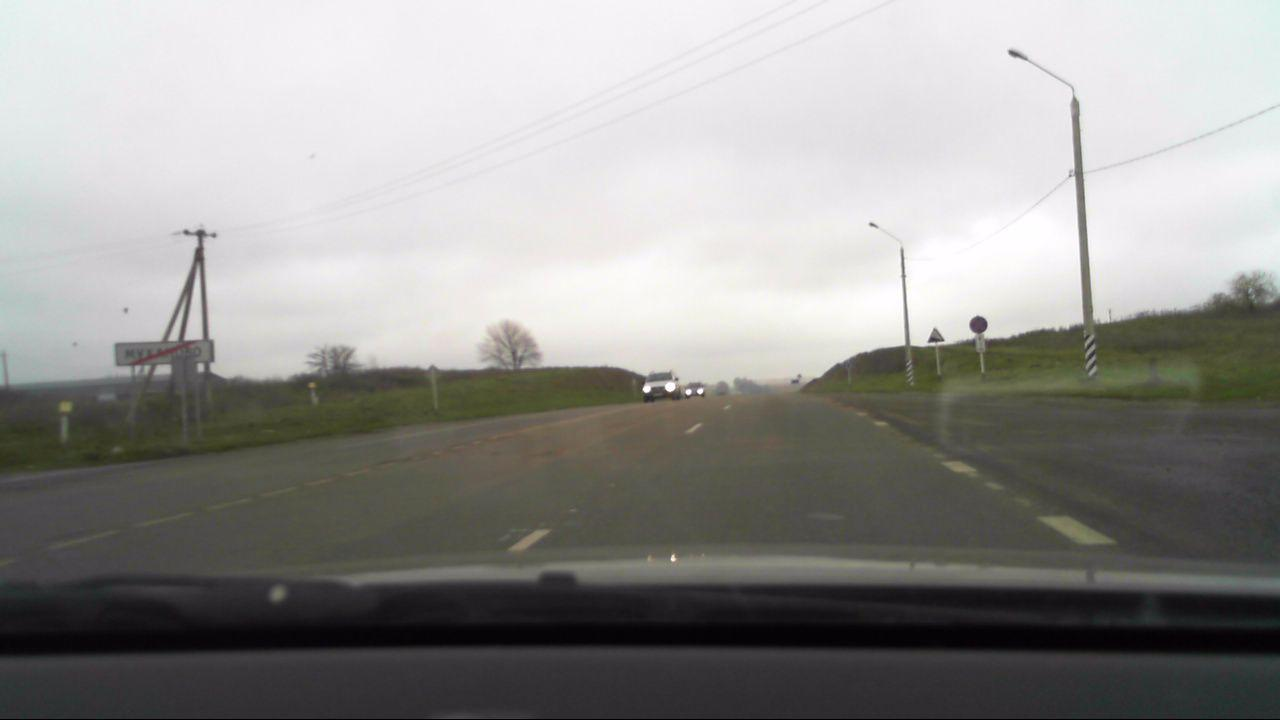1_13: (924, 328, 944, 345)
3_27: (970, 316, 987, 332)
8_2_2: (975, 334, 987, 354)
